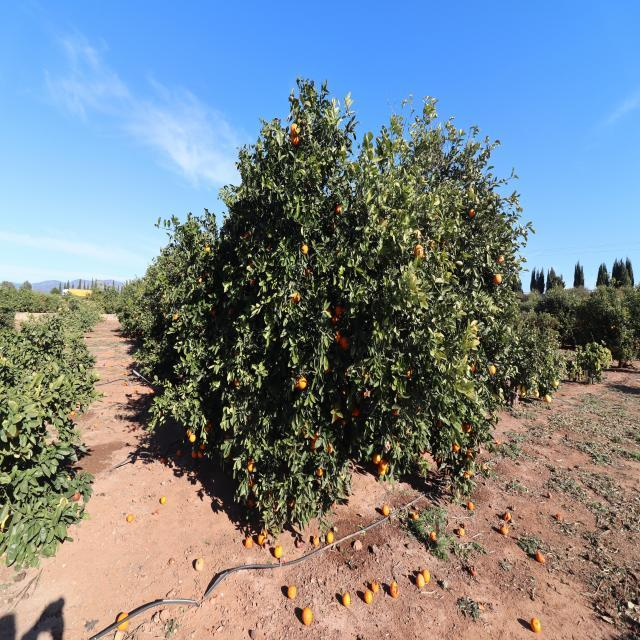Jeruk Sudah Matang: (290, 123, 300, 137), (414, 244, 424, 258), (303, 424, 310, 439), (340, 336, 348, 349), (298, 376, 306, 389), (335, 305, 343, 317), (494, 274, 502, 286), (334, 330, 341, 342), (291, 135, 299, 145), (292, 292, 300, 302), (247, 478, 255, 488), (352, 407, 360, 417), (372, 454, 380, 464), (380, 460, 388, 470), (378, 465, 386, 475), (414, 230, 422, 240), (313, 431, 320, 442), (306, 268, 312, 280), (301, 244, 308, 254), (310, 440, 317, 450), (489, 364, 496, 374), (248, 460, 254, 471), (326, 443, 333, 452), (332, 412, 339, 421), (406, 368, 412, 378), (332, 316, 339, 324), (233, 379, 240, 387), (316, 469, 324, 476), (419, 448, 426, 456), (466, 449, 474, 456), (206, 423, 212, 432), (262, 529, 268, 538), (336, 204, 342, 212), (244, 230, 250, 238), (190, 434, 196, 442), (186, 428, 192, 436), (226, 452, 232, 460), (452, 444, 460, 450), (469, 208, 475, 216), (249, 498, 254, 507), (199, 443, 206, 449), (392, 410, 399, 416), (464, 472, 470, 479), (498, 256, 504, 263), (249, 261, 254, 269), (327, 308, 332, 316), (249, 278, 255, 284), (466, 468, 472, 474), (468, 188, 474, 194), (211, 309, 216, 316), (294, 381, 299, 388), (198, 451, 203, 458), (226, 434, 231, 441), (324, 367, 331, 372), (468, 502, 473, 509), (466, 424, 470, 432), (436, 457, 442, 462), (173, 314, 178, 320), (192, 451, 196, 458), (228, 309, 233, 314), (198, 277, 202, 283), (290, 501, 294, 506), (206, 246, 210, 250), (472, 364, 474, 372)
